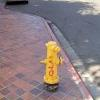a fire hydrant: (40, 39, 66, 95)
